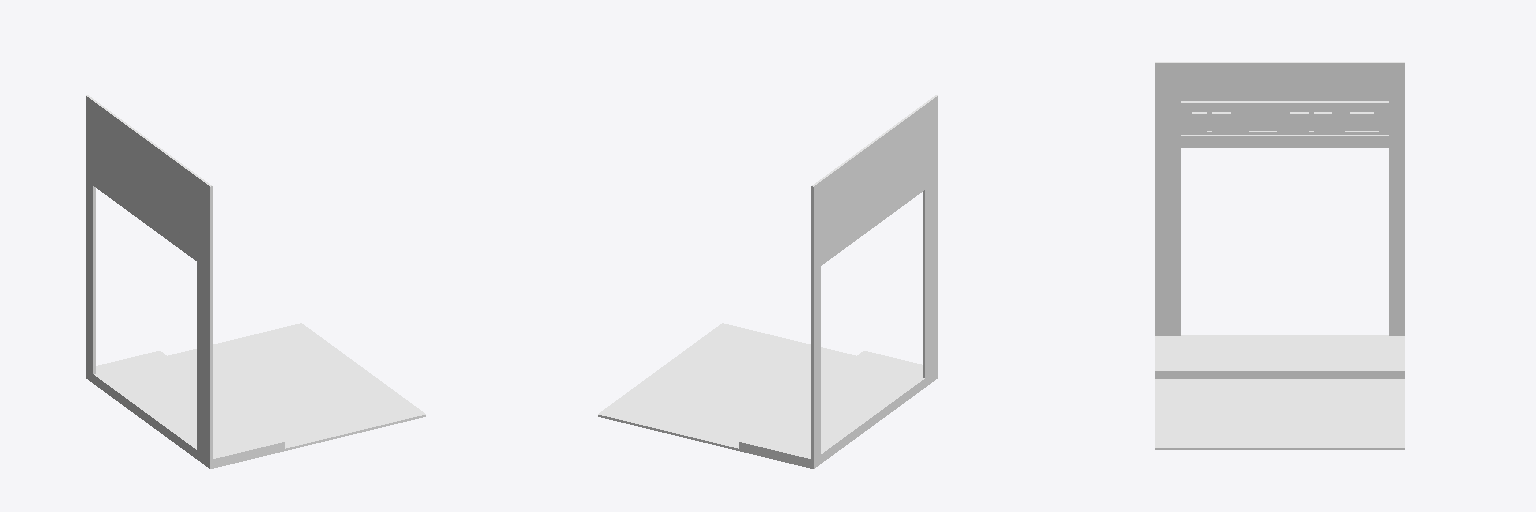
File: entrada tuto con hueco puerta.obj
The picture shows the model from 3 angles: view 1: azimuth 30°, elevation 25°; view 2: azimuth 150°, elevation 25°; view 3: azimuth 270°, elevation 25°; orthographic projection.
Visible parts, largest first — view 1: object 1; view 2: object 1; view 3: object 1.
Part boxes in pixels (x1,y1,x2,y2): object 1: (86,95,425,468); object 1: (598,95,937,468); object 1: (1155,62,1404,449).
Bounding box in the file's own units: 9.6 × 12 × 9.6.